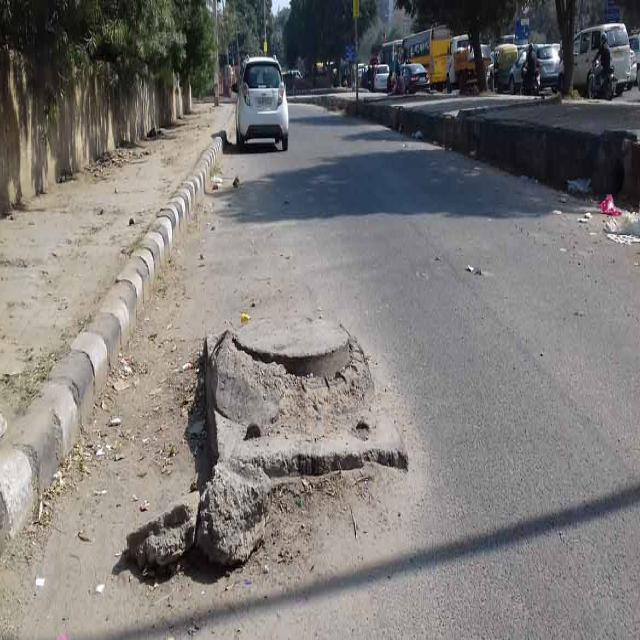Car: (233, 53, 289, 150)
